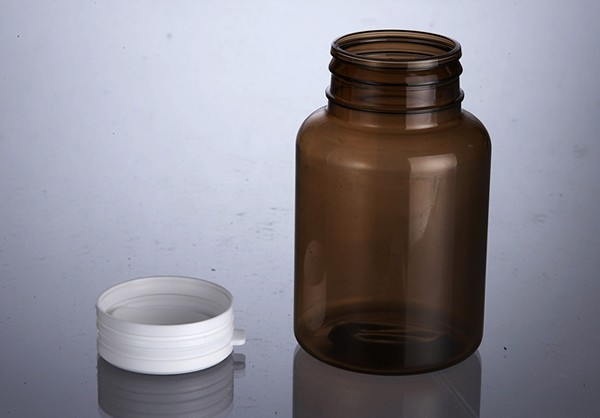medicinejar: (287, 26, 501, 377)
